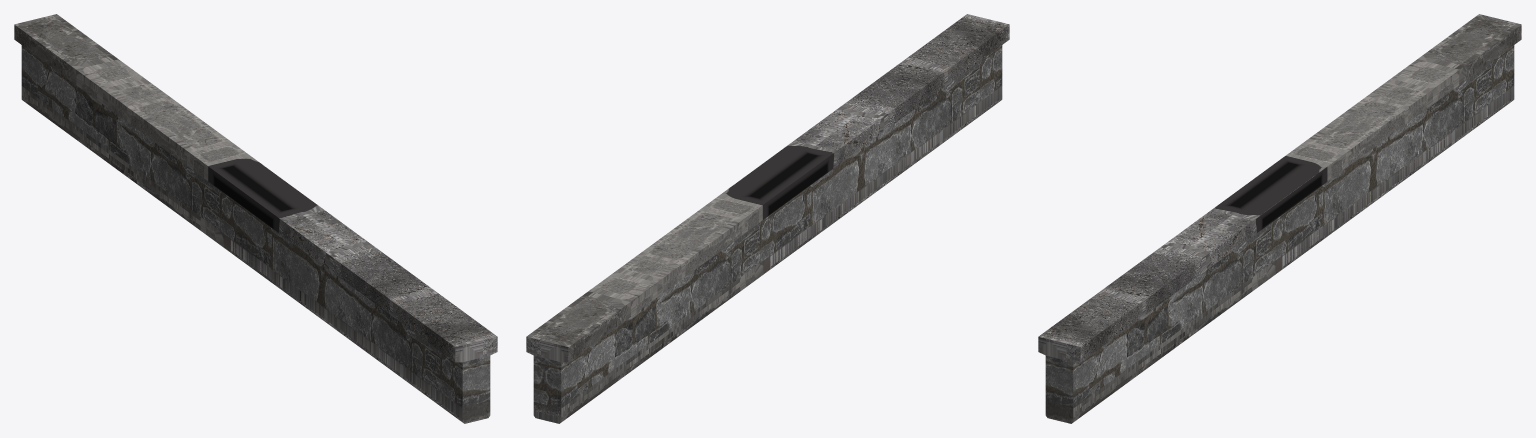
Rendered from MC_Battlements_Wall_B_8m.fbx.
3 renders of one model, left to right at view 1: azimuth 30°, elevation 25°; view 2: azimuth 150°, elevation 25°; view 3: azimuth 330°, elevation 25°, orthographic.
Visible parts, largest first — view 1: MC_Battlements_Wall_B_8m; view 2: MC_Battlements_Wall_B_8m; view 3: MC_Battlements_Wall_B_8m.
Boxes of the visible parts, x1,y1,x2,y2 form: MC_Battlements_Wall_B_8m: [14, 14, 497, 423]; MC_Battlements_Wall_B_8m: [526, 14, 1009, 423]; MC_Battlements_Wall_B_8m: [1038, 14, 1521, 423].
Bounding box in the file's own units: 44.54 × 79.27 × 800.
